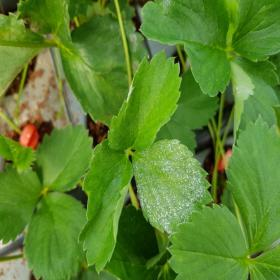Powdery Mildew Leaf: (139, 0, 232, 97), (107, 48, 183, 151), (132, 139, 214, 234), (229, 53, 279, 149)
